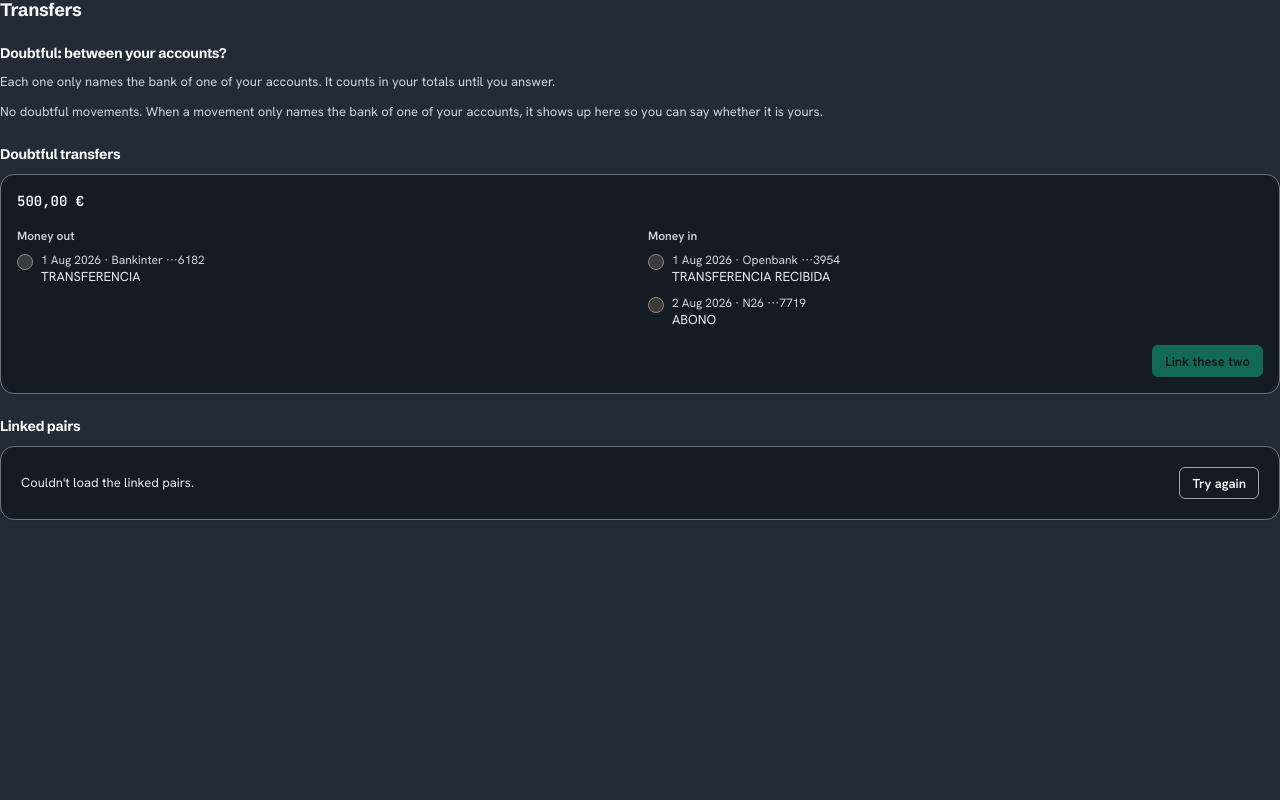
it: TransfersView › a failed list of pairs leaves the doubtful groups painted, and retries alone (R14)
Check: the text with test id "pairs-error-message" reads "Couldn't load the linked pairs.", box [21,474,194,491]
Check: the heading with test id "pairs-heading" reads "Linked pairs", box [0,417,80,435]
Click the button with test id "pairs-retry". click: click(1219, 483)
box: [1179,467,1259,499]
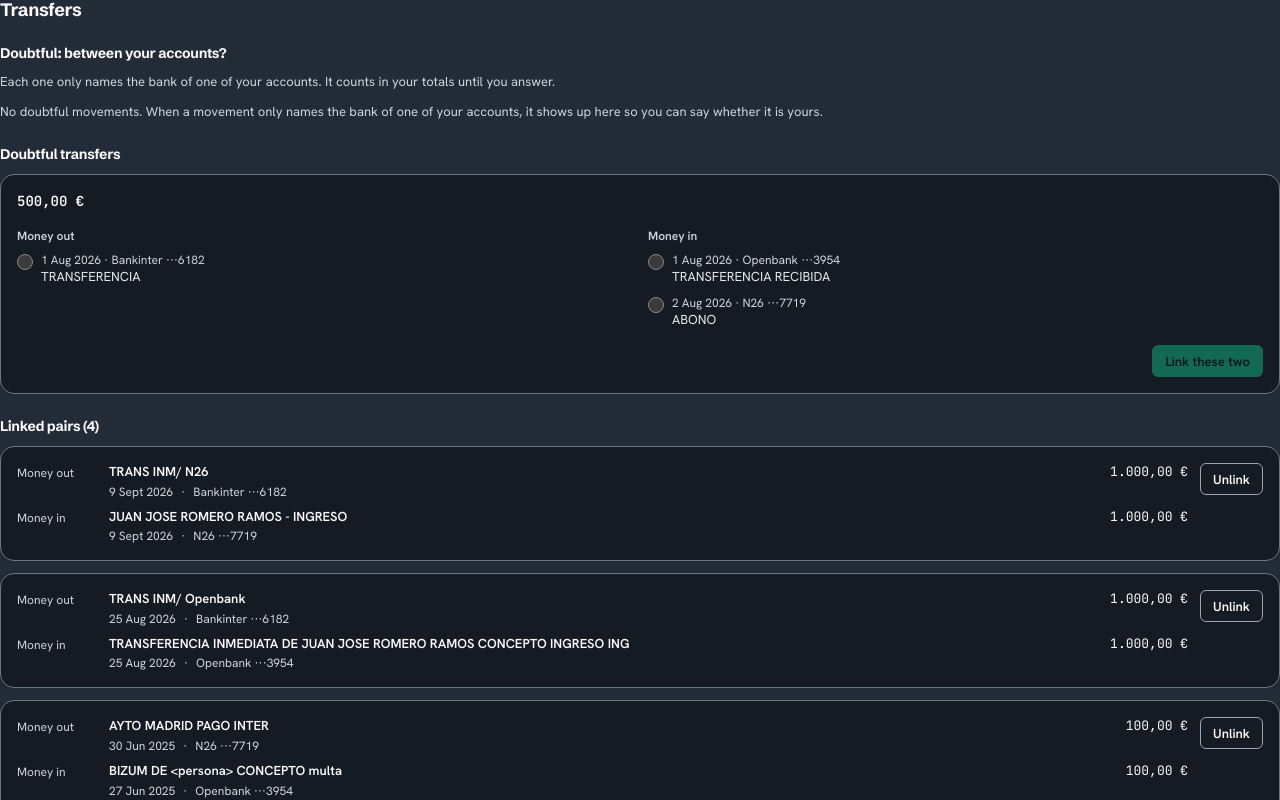
Check: the number of list items with test id "transfer-pair" is 4
